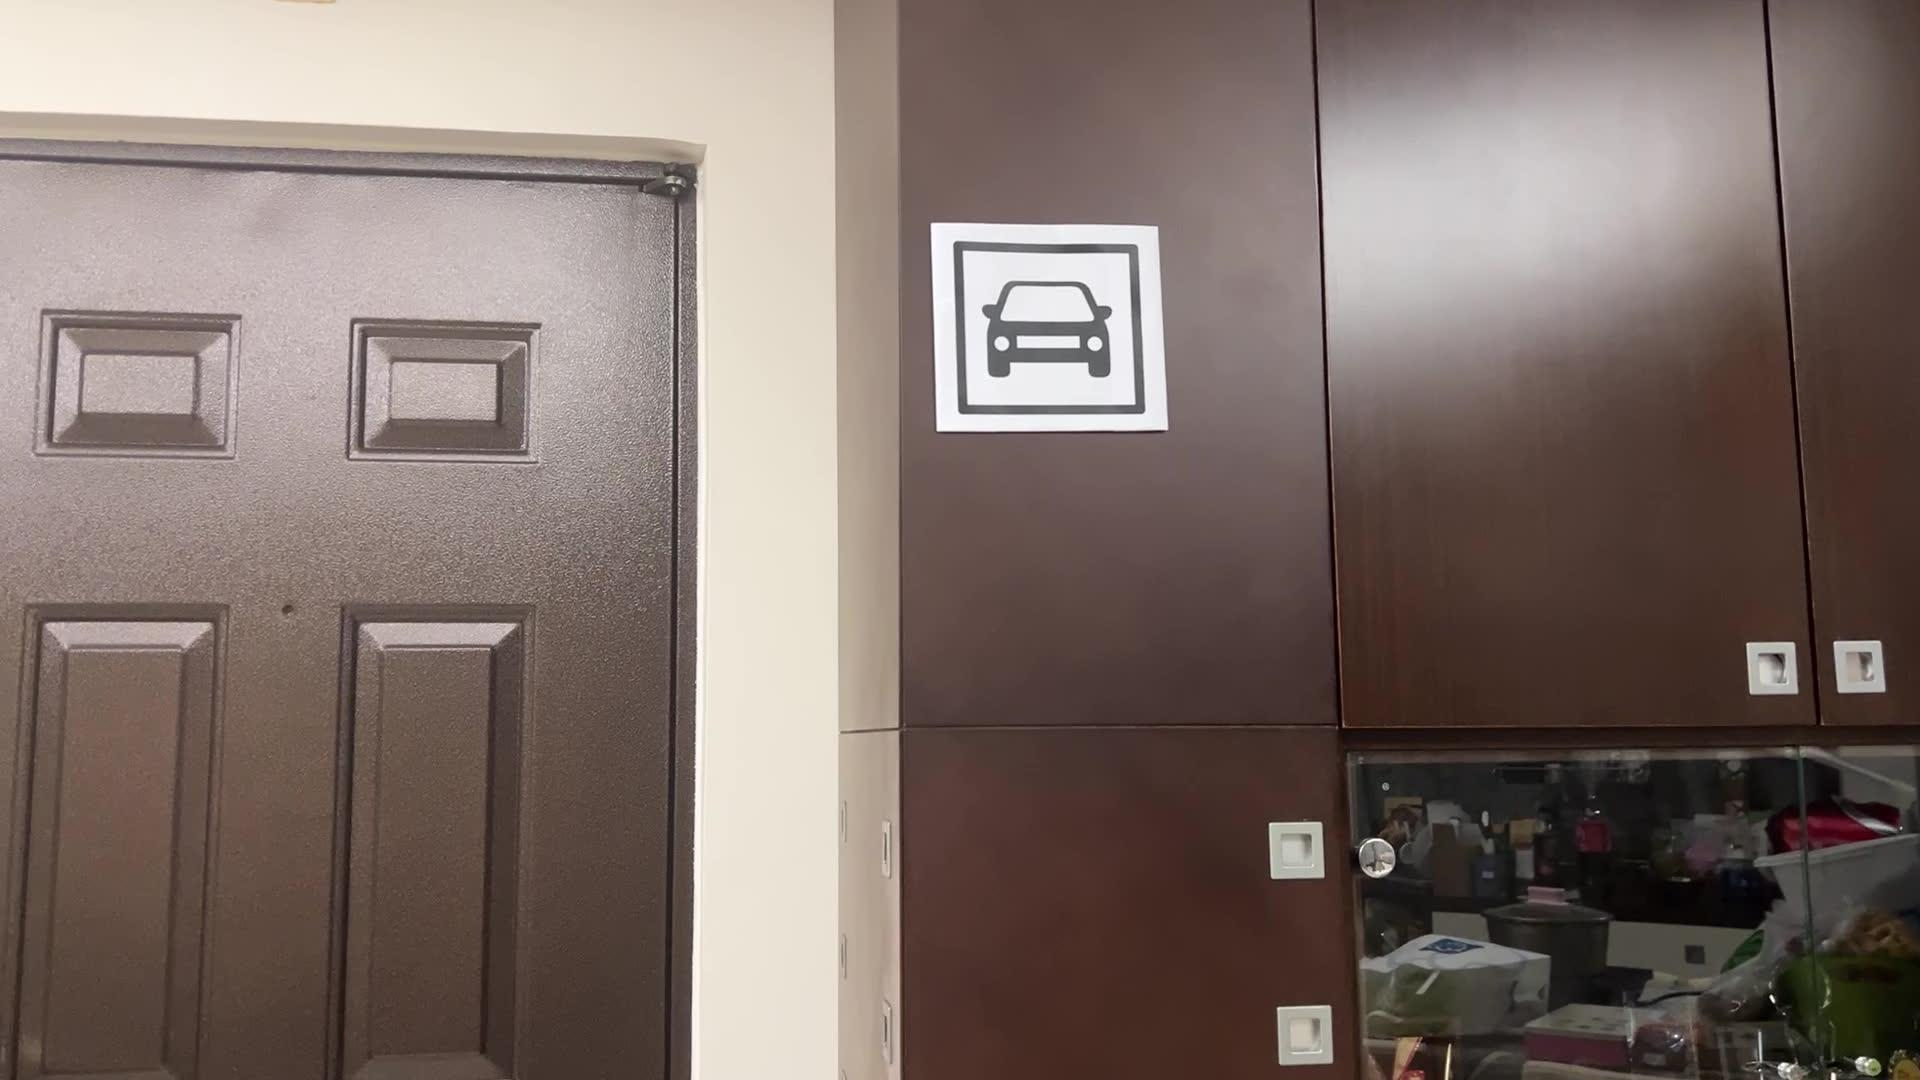car_img: (945, 233, 1153, 421)
